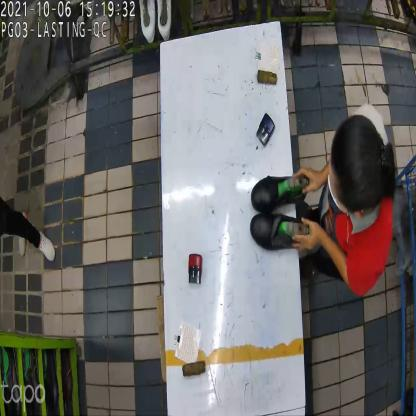shoes: (250, 171, 309, 252)
stamp: (256, 111, 275, 148), (185, 251, 204, 287)
